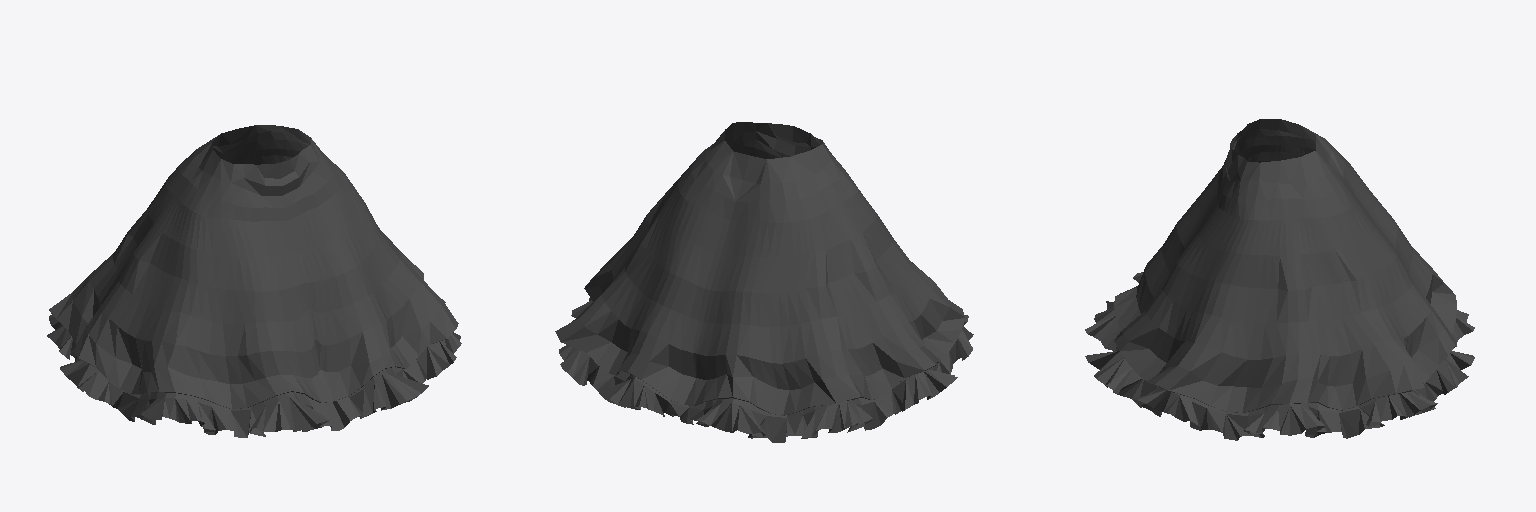
The model's file is dress.obj.
The picture shows the model from 3 angles: view 1: azimuth 30°, elevation 25°; view 2: azimuth 150°, elevation 25°; view 3: azimuth 270°, elevation 25°; orthographic projection.
Parts seen in each view (by area): view 1: Material22_フランドール_mesh_フランドール.015; view 2: Material22_フランドール_mesh_フランドール.015; view 3: Material22_フランドール_mesh_フランドール.015.
Boxes of the visible parts, x1=… form: Material22_フランドール_mesh_フランドール.015: x1=47, y1=125, x2=461, y2=437; Material22_フランドール_mesh_フランドール.015: x1=555, y1=122, x2=973, y2=442; Material22_フランドール_mesh_フランドール.015: x1=1085, y1=119, x2=1474, y2=440.
Size of the model in its own units: 0.7222 by 0.4416 by 0.672.